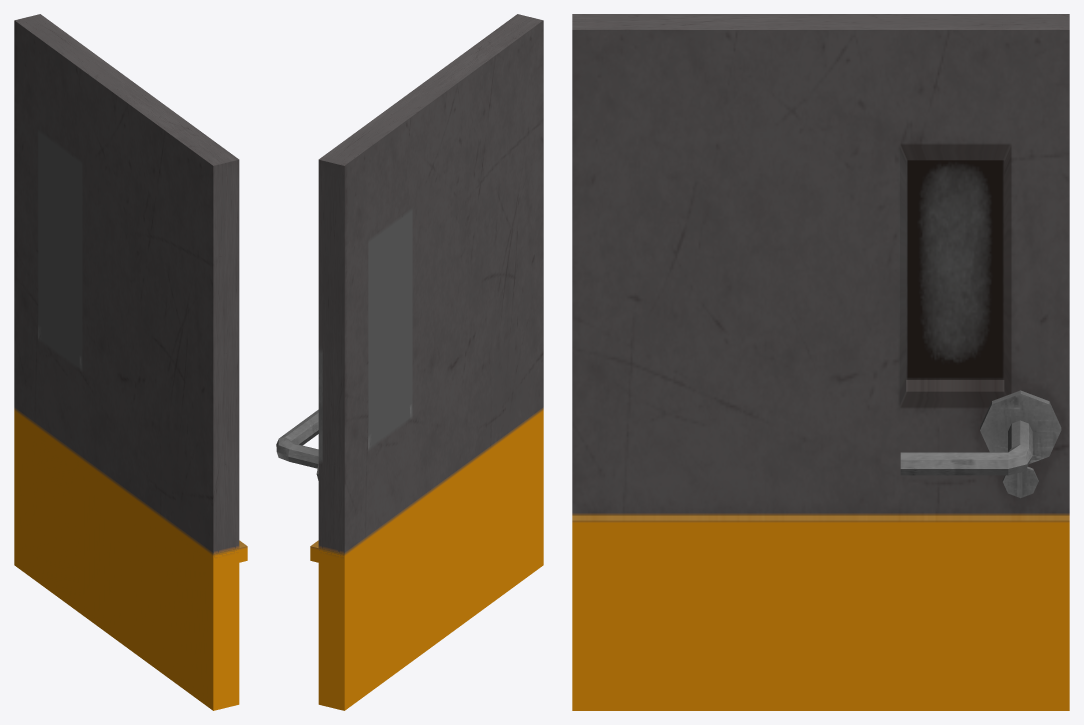
The model's file is medicalDoor.gltf.
3 renders of one model, left to right at view 1: azimuth 30°, elevation 25°; view 2: azimuth 150°, elevation 25°; view 3: azimuth 270°, elevation 25°, orthographic. The views are drawn at different scales.
Visible parts, largest first — view 1: handle4; view 2: handle4; view 3: handle4.
Part boxes in pixels (x1,y1,x2,y2): handle4: (14, 14, 247, 710); handle4: (276, 14, 543, 710); handle4: (572, 14, 1069, 710).
Bounding box in the file's own units: 0.0329 × 0.1846 × 0.1221.
Materials: 1 (1 with a texture image).
